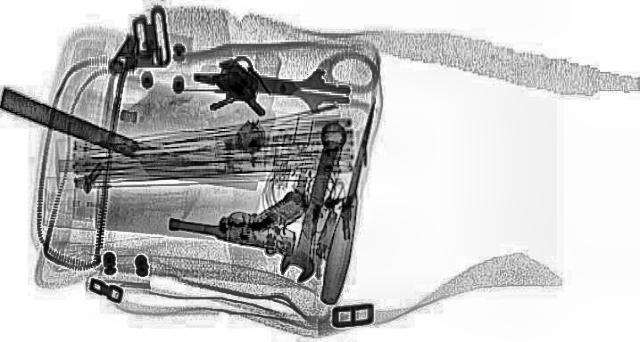Gun: (154, 172, 333, 258)
Knife: (1, 96, 260, 196), (314, 96, 382, 304), (182, 56, 358, 114)
Wrench: (274, 121, 352, 283)
